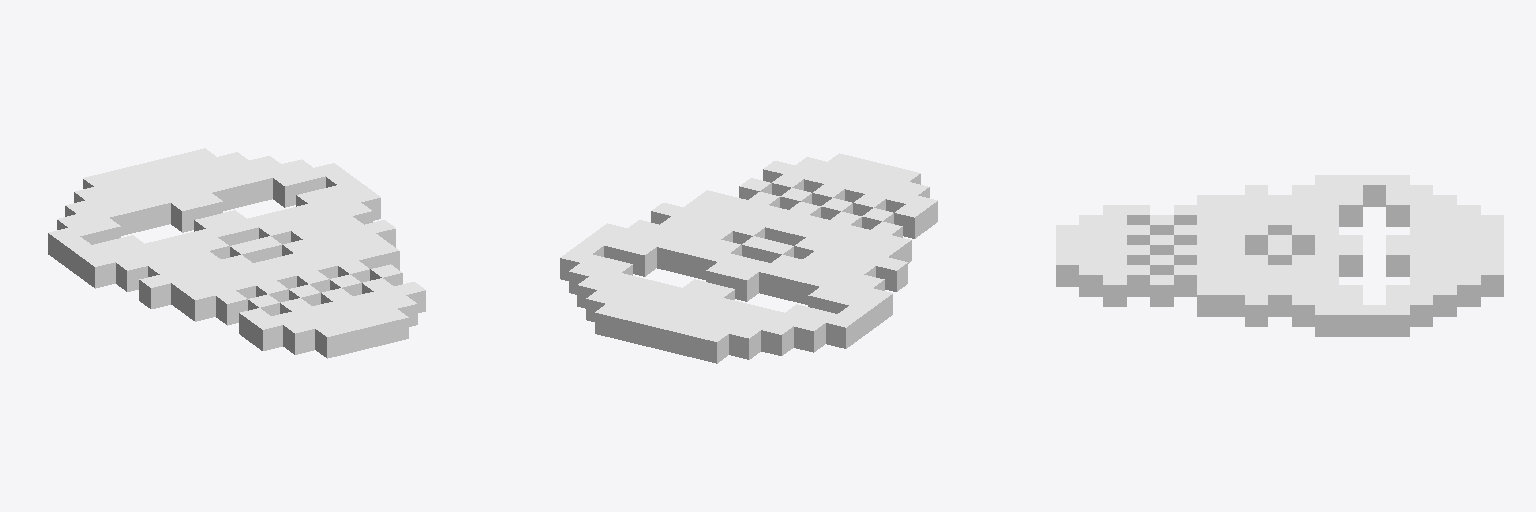
The model's file is bill_gates_skeleton.obj.
3 views of the same model, side by side, from view 1: azimuth 30°, elevation 25°; view 2: azimuth 150°, elevation 25°; view 3: azimuth 270°, elevation 25° (orthographic).
Bounding box in the file's own units: 14 × 1 × 19.